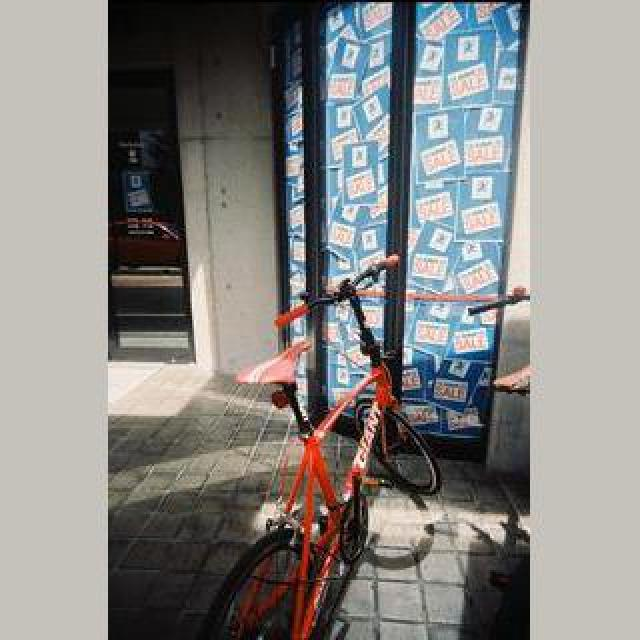Person: (216, 274, 442, 640)
